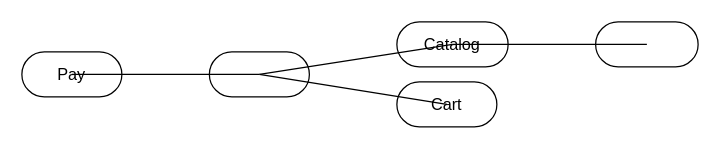
This 720x149 diagram has some shape labels left out. The centre of each missing label's shape, as x and y in pixels:
"Search" goes at [646,44].
"Shop" goes at [258,74].
